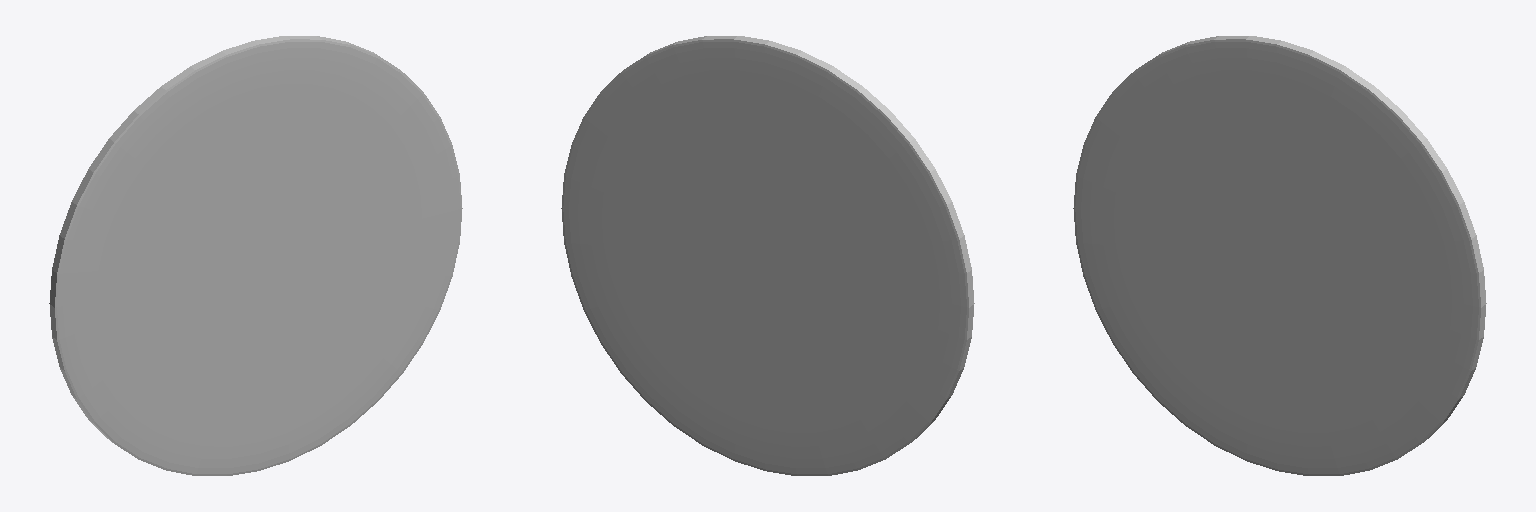
File: antennaDish.obj
The picture shows the model from 3 angles: view 1: azimuth 30°, elevation 25°; view 2: azimuth 150°, elevation 25°; view 3: azimuth 330°, elevation 25°; orthographic projection.
Parts seen in each view (by area): view 1: Cube; view 2: Cube; view 3: Cube.
Part boxes in pixels (bbox=[...]): Cube: bbox=[49, 36, 462, 475]; Cube: bbox=[561, 36, 974, 475]; Cube: bbox=[1073, 36, 1486, 475].
Size of the model in its own units: 3.6 by 3.6 by 0.1.